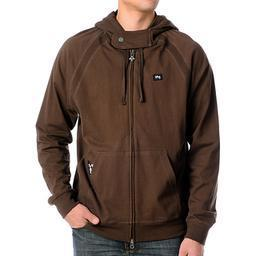sweater: (36, 10, 222, 246)
